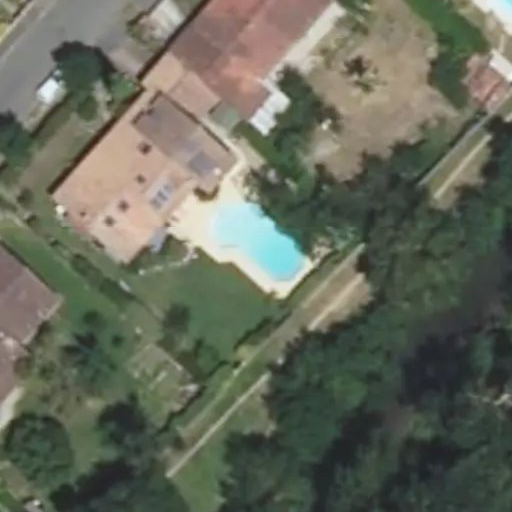pool: (198, 231, 312, 249)
